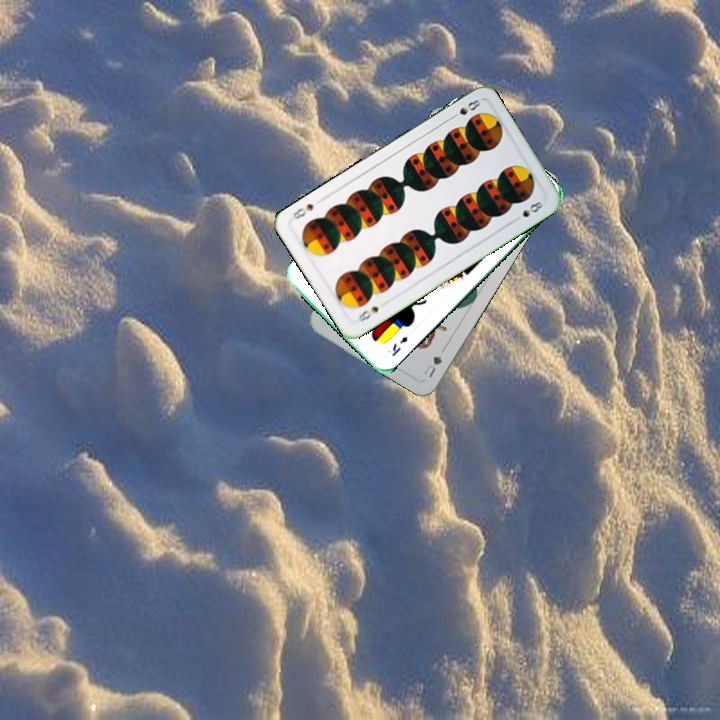EK: (388, 332, 410, 359)
GU: (420, 351, 445, 380)
S8: (446, 95, 483, 122), (353, 302, 381, 326)
